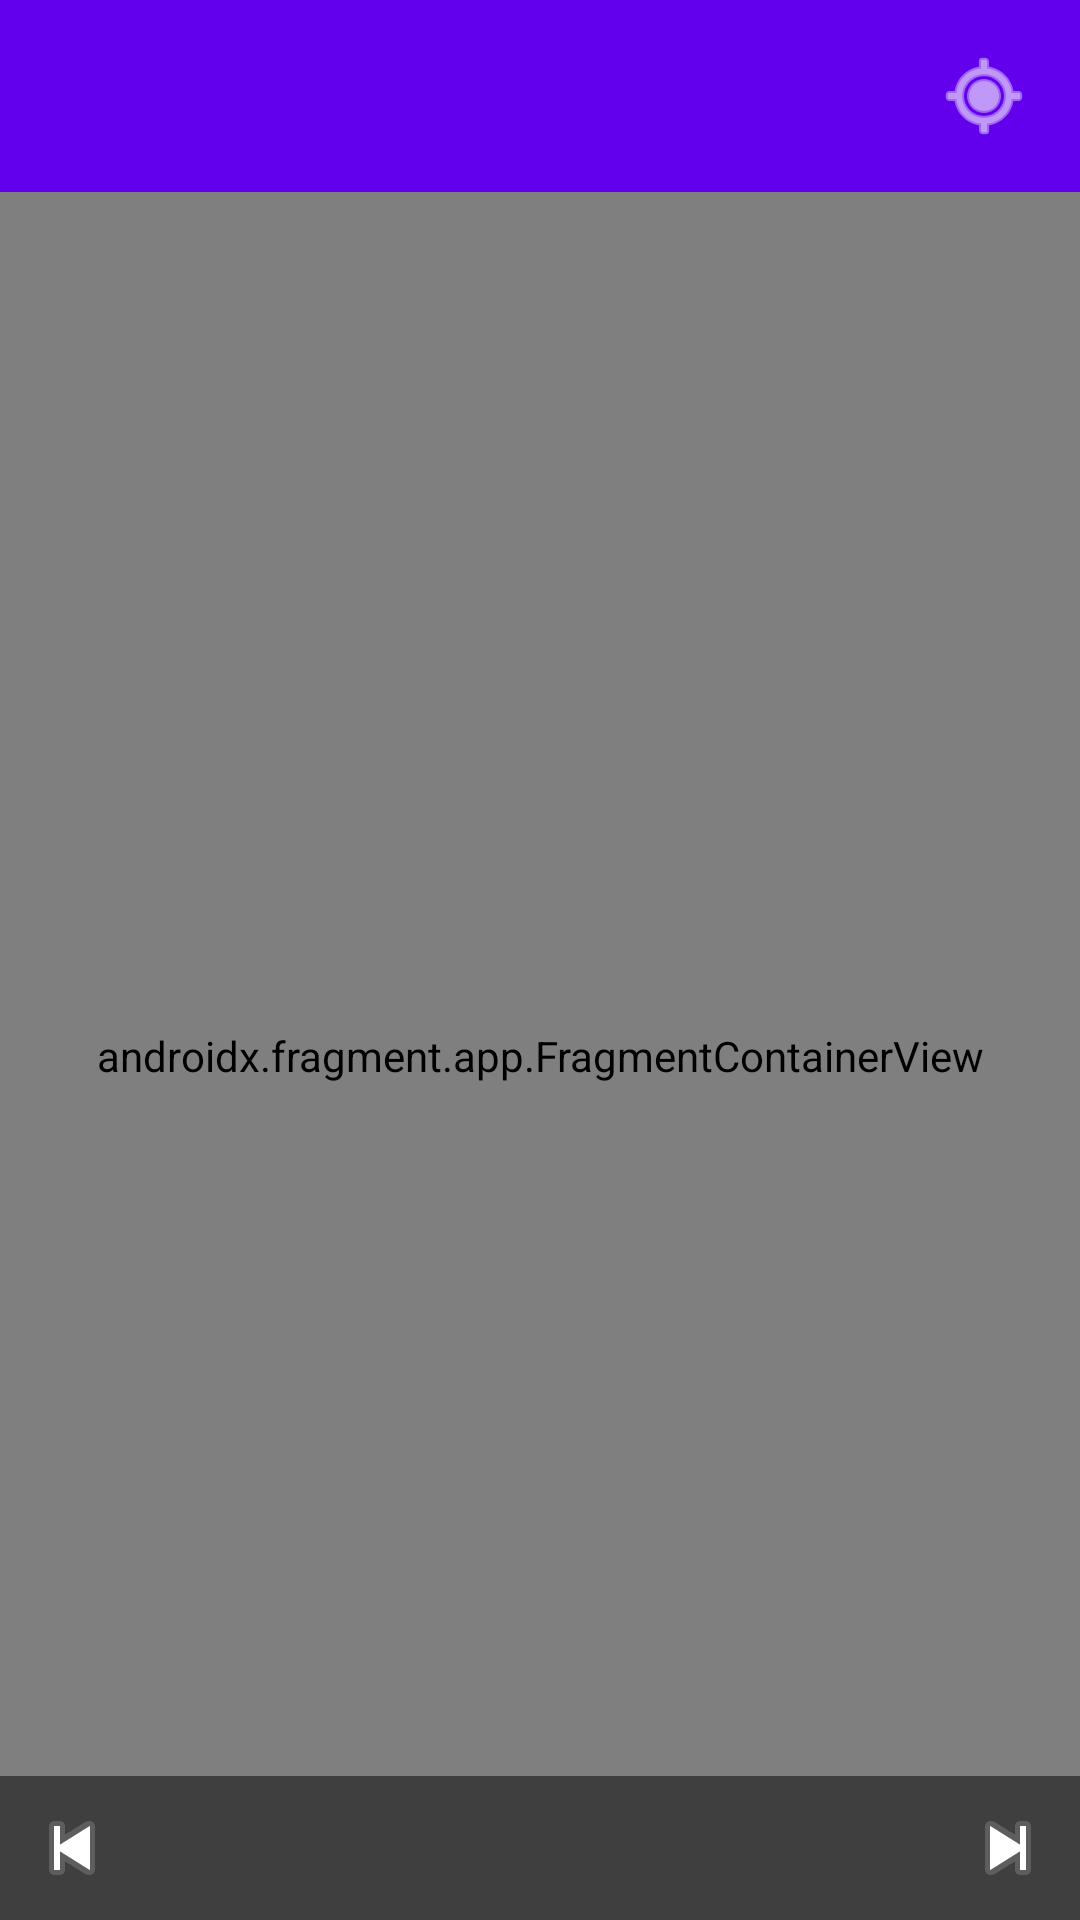

Icons on this 1080x1920 Android screen, each with the point to tap as point (x, y):
Next Pin: point (1008, 1848)
Previous Pin: point (72, 1848)
